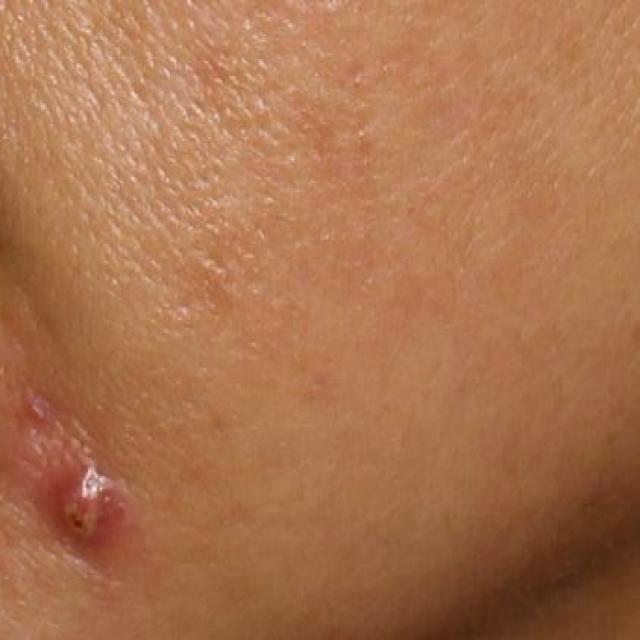Pimples: (48, 436, 136, 566)
